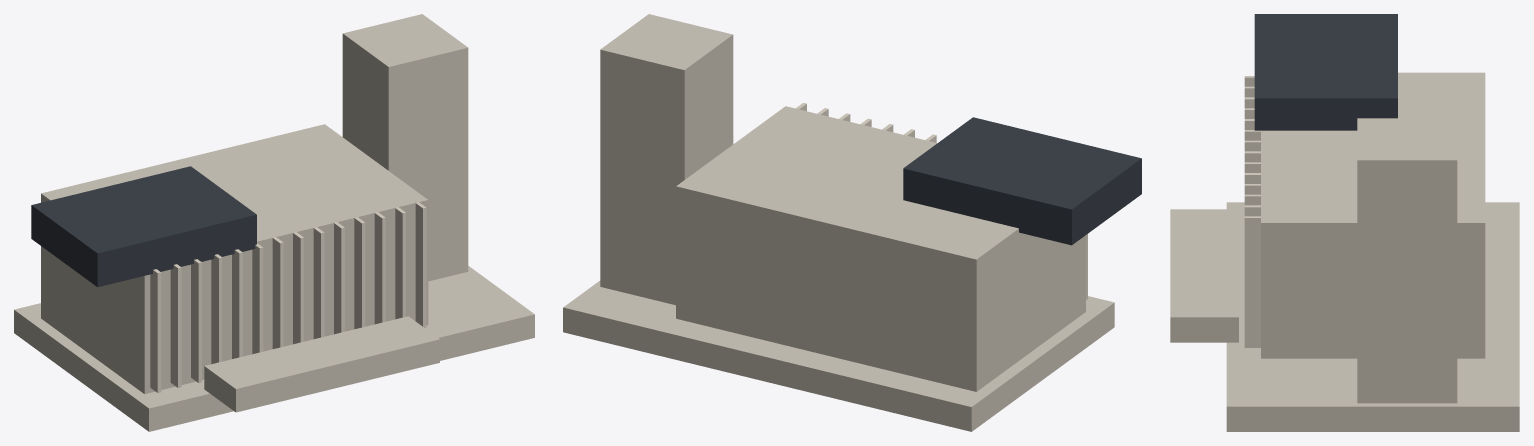
Rendered from datum-massing.glb.
The picture shows the model from 3 angles, left to right: view 1: azimuth 30°, elevation 25°; view 2: azimuth 150°, elevation 25°; view 3: azimuth 270°, elevation 25°; orthographic projection. The views are drawn at different scales.
Parts seen in each view (by area): view 1: slab, tower, cantilever, plinth, podium, fin-13, fin-0, fin-1, fin-2, fin-11, fin-6, fin-8 (+7 smaller); view 2: slab, tower, plinth, cantilever; view 3: slab, tower, plinth, cantilever, podium, fin-13.
Part boxes in pixels (box(x1,y1,x2,y2)): slab: box(41, 124, 428, 393); tower: box(342, 14, 468, 281); cantilever: box(31, 166, 256, 287); plinth: box(14, 266, 534, 431); podium: box(204, 316, 439, 412); fin-13: box(415, 202, 426, 327); fin-0: box(150, 269, 161, 392); fin-1: box(170, 264, 181, 387); fin-2: box(191, 259, 201, 382); fin-11: box(374, 212, 385, 324); fin-6: box(272, 237, 283, 348); fin-8: box(313, 227, 324, 338); slab: box(676, 106, 1085, 391); tower: box(600, 14, 733, 305); plinth: box(563, 280, 1114, 431); cantilever: box(903, 117, 1141, 245); slab: box(1261, 72, 1485, 358); tower: box(1357, 118, 1457, 403); plinth: box(1226, 202, 1519, 431); cantilever: box(1254, 14, 1397, 130); podium: box(1170, 209, 1238, 342); fin-13: box(1244, 216, 1260, 347).
Bounding box in the file's own units: 0.341 × 0.19 × 0.224.
